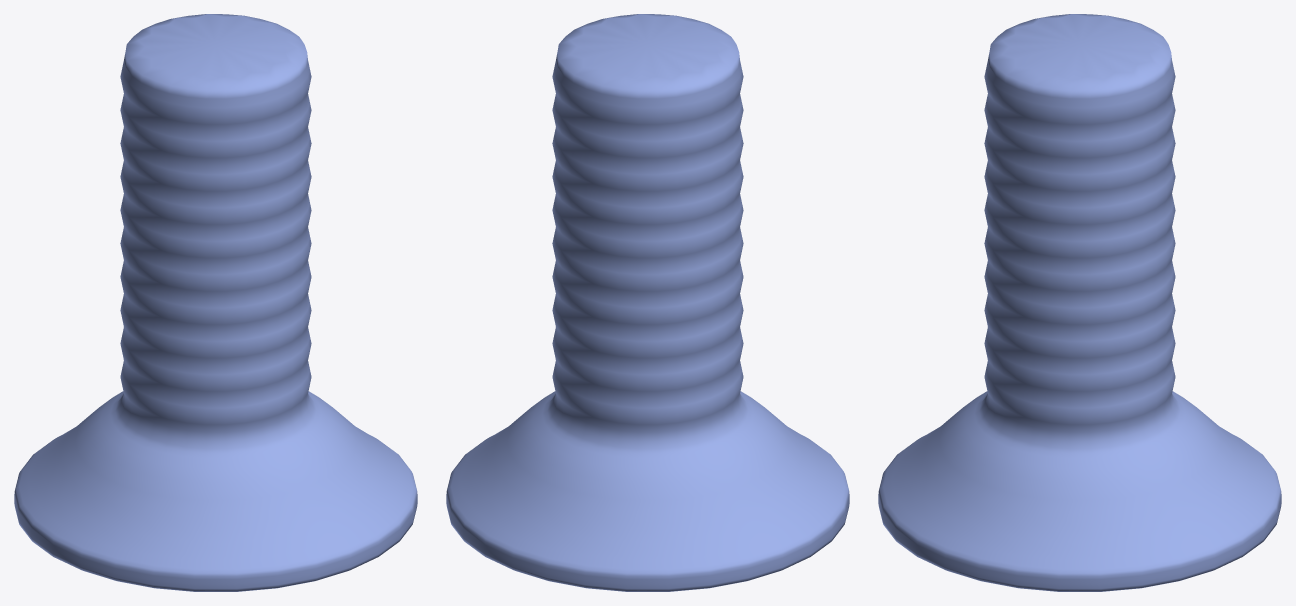
Rendered from scoop.fbx.
3 views of the same model, side by side, from view 1: azimuth 30°, elevation 25°; view 2: azimuth 150°, elevation 25°; view 3: azimuth 270°, elevation 25° (orthographic).
Visible parts, largest first — view 1: Scoop; view 2: Scoop; view 3: Scoop.
Part boxes in pixels (left/top/right/bottom): Scoop: left=14, top=14, right=417, bottom=591; Scoop: left=446, top=14, right=849, bottom=591; Scoop: left=878, top=14, right=1281, bottom=591.
Size of the model in its own units: 344 by 440 by 346.
